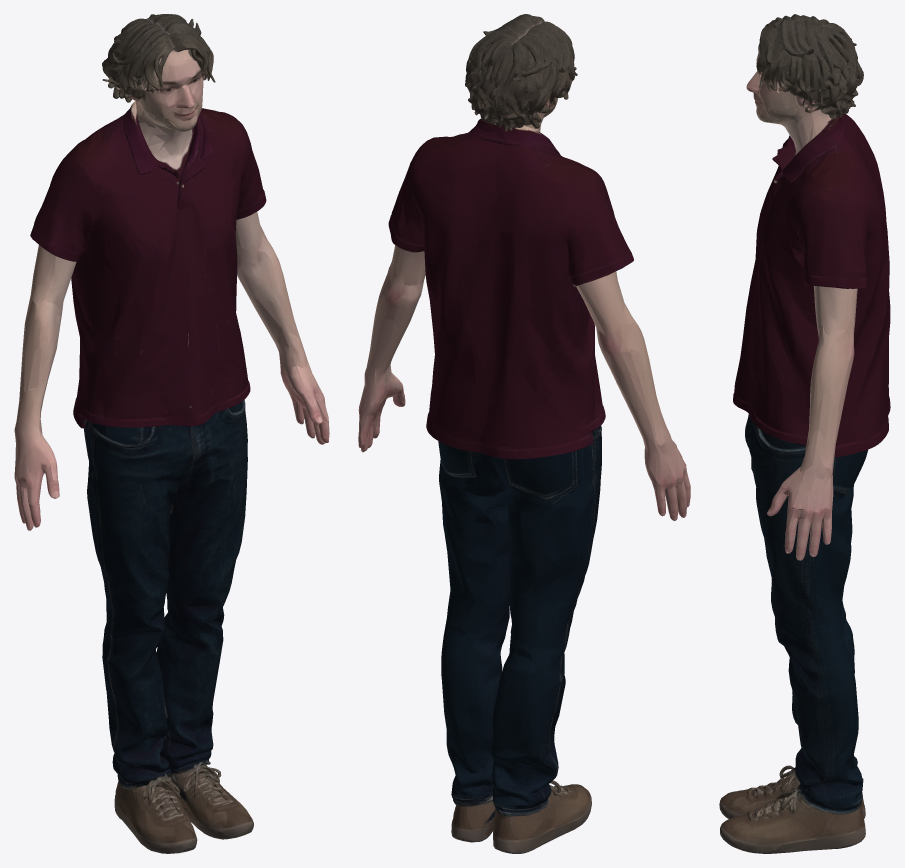
File: isak-smith.glb
The picture shows the model from 3 angles, left to right: view 1: azimuth 30°, elevation 25°; view 2: azimuth 150°, elevation 25°; view 3: azimuth 270°, elevation 25°; orthographic projection.
Parts seen in each view (by area): view 1: Mesh_0; view 2: Mesh_0; view 3: Mesh_0.
Boxes of the visible parts, <box> form: Mesh_0: <box>14,14,329,853</box>; Mesh_0: <box>358,14,690,853</box>; Mesh_0: <box>719,14,890,853</box>.
Size of the model in its own units: 0.7698 by 1.9 by 0.3649.
1 material, 1 textured.
